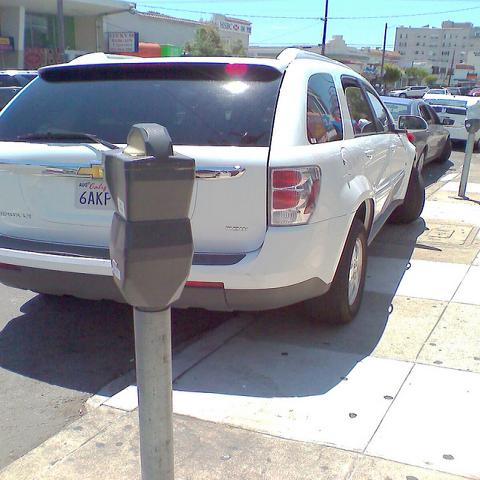car: (0, 48, 426, 320), (383, 95, 452, 166), (424, 95, 479, 144), (0, 71, 39, 110), (389, 86, 430, 98), (422, 89, 452, 100), (467, 87, 479, 97)
